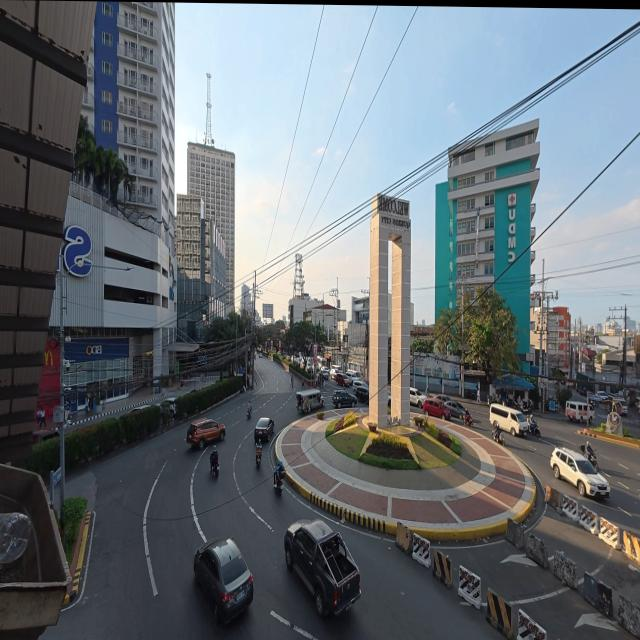Jeepneys: (295, 389, 323, 413)
car: (193, 538, 252, 621), (550, 447, 609, 497), (186, 419, 224, 450), (422, 397, 450, 420), (444, 400, 467, 419), (254, 418, 273, 441), (332, 389, 355, 408), (32, 429, 57, 444), (158, 397, 176, 416), (409, 388, 424, 407), (353, 385, 368, 401), (612, 399, 627, 415), (335, 373, 351, 387), (345, 370, 360, 382), (129, 405, 150, 413), (351, 379, 366, 390), (595, 391, 607, 401), (319, 368, 328, 379), (640, 413, 640, 428)
motorcycle: (579, 445, 597, 471), (492, 426, 506, 446), (528, 419, 540, 437), (273, 474, 282, 496), (210, 459, 218, 477), (462, 413, 472, 427), (255, 445, 261, 467), (486, 394, 496, 406), (246, 410, 250, 420)
trucks: (284, 520, 359, 616)
vans: (489, 403, 527, 436), (565, 400, 594, 423), (329, 365, 340, 379)
